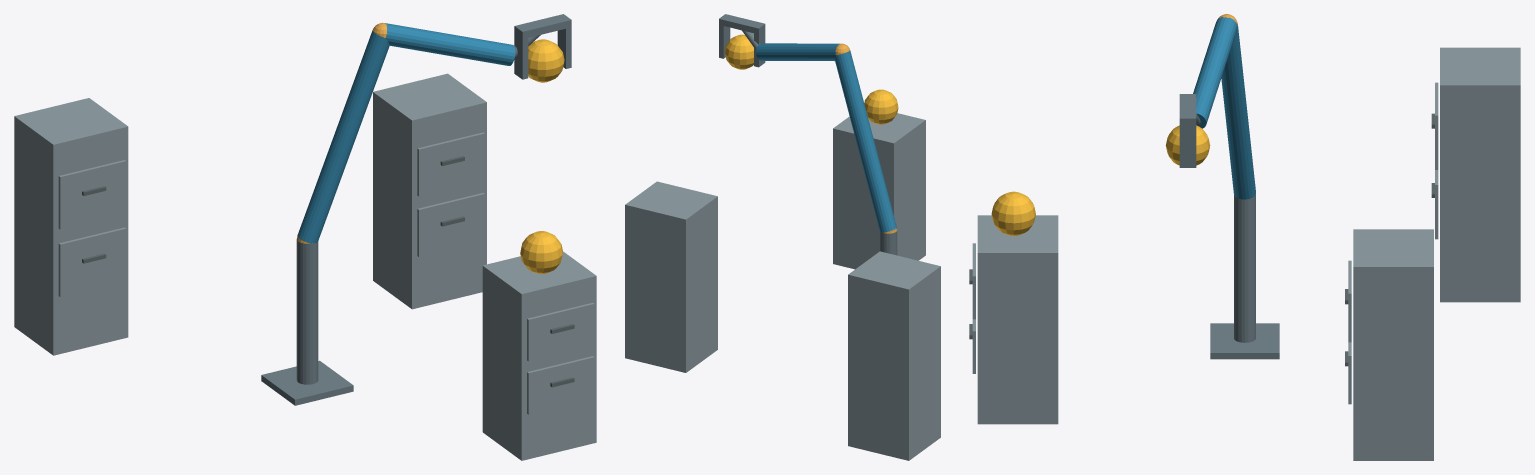
3 renders of one model, left to right at view 1: azimuth 30°, elevation 25°; view 2: azimuth 150°, elevation 25°; view 3: azimuth 270°, elevation 25°, orthographic. The views are drawn at different scales.
Visible parts, largest first — view 1: cabinet_3 body, cabinet_2 body, cabinet_1 body, moving link 1, cabinet_3 drawer front, cabinet_3 drawer front.001, cabinet_2 drawer front, fixed post, cabinet_2 drawer front.001, moving link 2, cabinet_1 drawer front, cabinet_1 drawer front.001 (+5 smaller); view 2: cabinet_3 body, cabinet_2 body, cabinet_1 body, moving link 1, moving link 2, released ball_1, ball ball_2, gripper bridge, fixed post; view 3: cabinet_3 body, cabinet_2 body, cabinet_1 body, moving link 1, fixed post, moving link 2, pedestal, released ball_1, ball ball_2, gripper finger 1, gripper bridge.
Part boxes in pixels (box(x1,y1,x2,y2)): cabinet_3 body: box(14, 98, 128, 355); cabinet_2 body: box(373, 73, 486, 309); cabinet_1 body: box(482, 251, 596, 460); moving link 1: box(297, 30, 389, 243); cabinet_3 drawer front: box(58, 227, 126, 297); cabinet_3 drawer front.001: box(58, 160, 126, 229); cabinet_2 drawer front: box(417, 192, 484, 256); fixed post: box(296, 239, 318, 384); cabinet_2 drawer front.001: box(417, 132, 484, 196); moving link 2: box(385, 23, 515, 65); cabinet_1 drawer front: box(527, 356, 594, 414); cabinet_1 drawer front.001: box(527, 302, 594, 361); cabinet_3 body: box(848, 251, 940, 460); cabinet_2 body: box(625, 181, 717, 372); cabinet_1 body: box(833, 113, 925, 269); moving link 1: box(834, 50, 896, 232); moving link 2: box(755, 43, 839, 61); released ball_1: box(864, 89, 898, 124); ball ball_2: box(724, 34, 753, 69); gripper bridge: box(719, 14, 765, 34); fixed post: box(880, 231, 897, 255); cabinet_3 body: box(1440, 47, 1520, 302); cabinet_2 body: box(1353, 229, 1433, 460); cabinet_1 body: box(977, 215, 1058, 424); moving link 1: box(1221, 24, 1255, 199); fixed post: box(1234, 194, 1255, 342); moving link 2: box(1193, 17, 1237, 128); pedestal: box(1210, 323, 1279, 359); released ball_1: box(991, 191, 1035, 235); ball ball_2: box(1165, 125, 1210, 165); gripper finger 1: box(1179, 126, 1196, 167); gripper bridge: box(1179, 94, 1196, 126).
Bounding box in the file's own units: 1.67 × 1.44 × 1.98.
